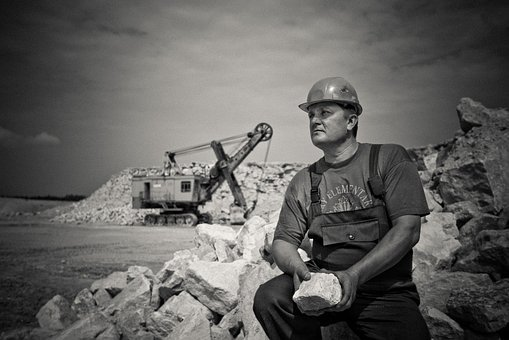Hard Hat: (296, 80, 362, 149)
Person: (273, 78, 425, 339)
